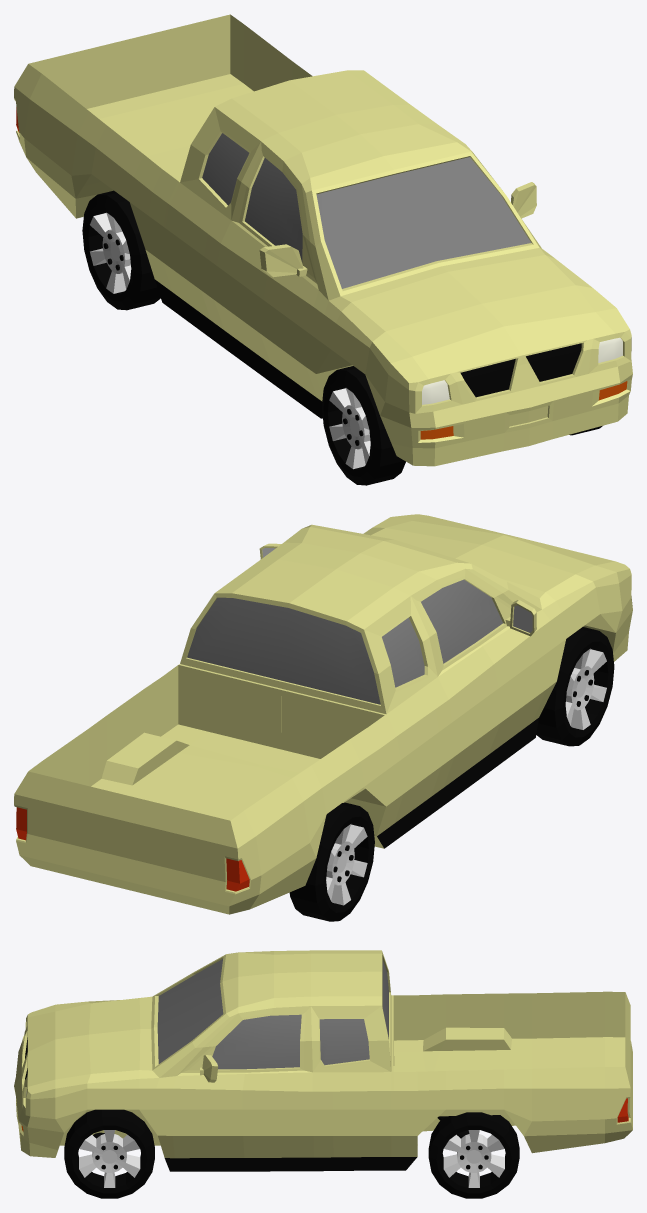
File: PickUp1.fbx
3 views of the same model, one above another, from view 1: azimuth 30°, elevation 25°; view 2: azimuth 150°, elevation 25°; view 3: azimuth 270°, elevation 25° (orthographic). The views are drawn at different scales.
Visible parts, largest first — view 1: Cube, Cube.001, Cylinder.001, Cube.002; view 2: Cube, Cube.001, Cylinder.001; view 3: Cube, Cylinder.001, Cube.001.
Part boxes in pixels (<box>): Cube: <box>14,14,632,466</box>; Cube.001: <box>202,133,530,288</box>; Cylinder.001: <box>82,190,602,485</box>; Cube.002: <box>420,337,627,439</box>; Cube: <box>14,514,632,914</box>; Cube.001: <box>187,579,502,704</box>; Cylinder.001: <box>289,627,614,921</box>; Cube: <box>14,950,632,1171</box>; Cylinder.001: <box>64,1109,519,1198</box>; Cube.001: <box>157,959,388,1069</box>.
Bounding box in the file's own units: 127 × 107 × 326.
